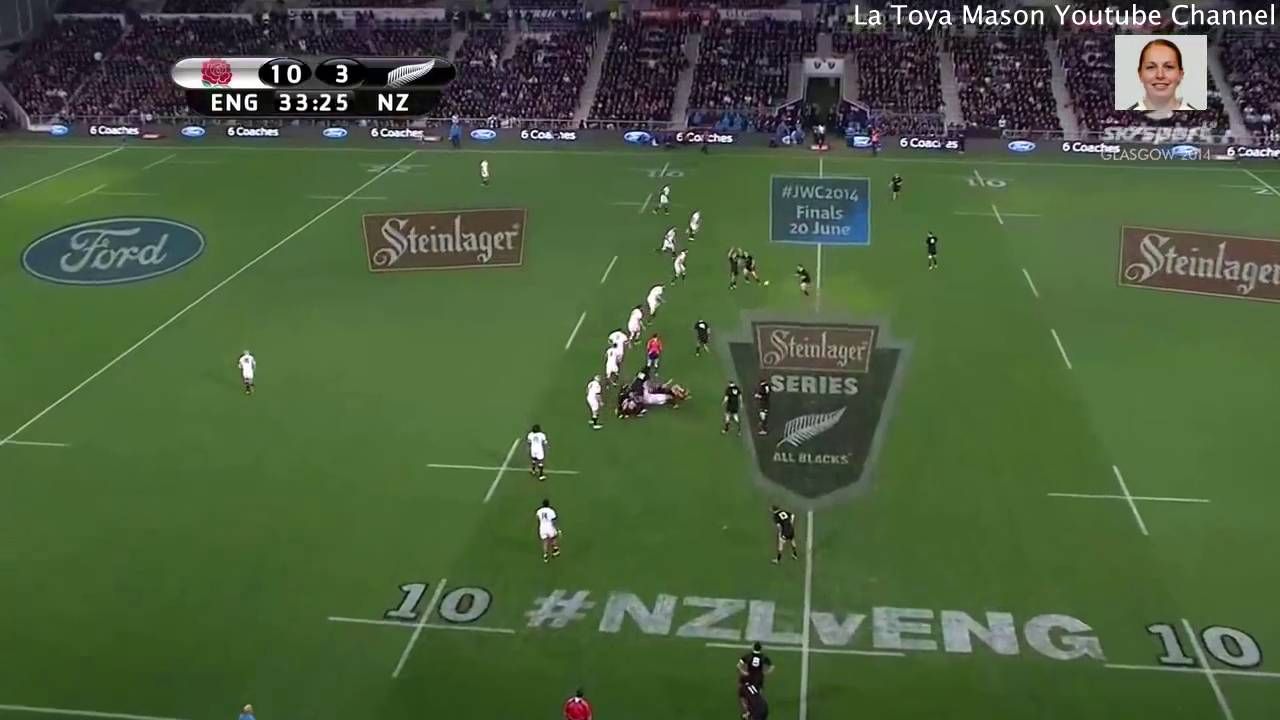10_metre: (322, 574, 525, 690), (1093, 609, 1280, 720), (1037, 458, 1216, 541), (423, 430, 581, 512), (949, 196, 1047, 236), (936, 165, 1028, 193)
ball: (761, 276, 770, 289)
player: (606, 184, 694, 219), (764, 499, 802, 573), (531, 497, 565, 568), (711, 378, 747, 438), (619, 154, 701, 180), (733, 636, 778, 682), (733, 673, 773, 720), (750, 376, 776, 440), (523, 422, 550, 482), (233, 343, 261, 400), (633, 382, 682, 413), (557, 684, 599, 720), (784, 260, 817, 301), (598, 340, 625, 388), (583, 371, 604, 432), (687, 313, 714, 360), (630, 364, 651, 423), (736, 248, 765, 290), (628, 297, 649, 347), (922, 227, 943, 275), (646, 278, 667, 326), (643, 332, 667, 374), (648, 180, 675, 217), (611, 380, 633, 424), (653, 223, 680, 258), (722, 245, 742, 291), (682, 207, 705, 245), (473, 156, 493, 199), (670, 245, 690, 287), (885, 171, 905, 206), (602, 329, 631, 353)
